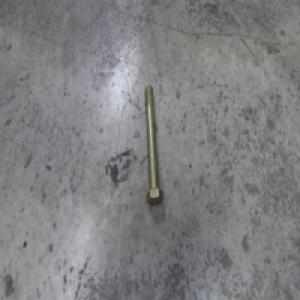Bolt: (143, 81, 164, 202)
